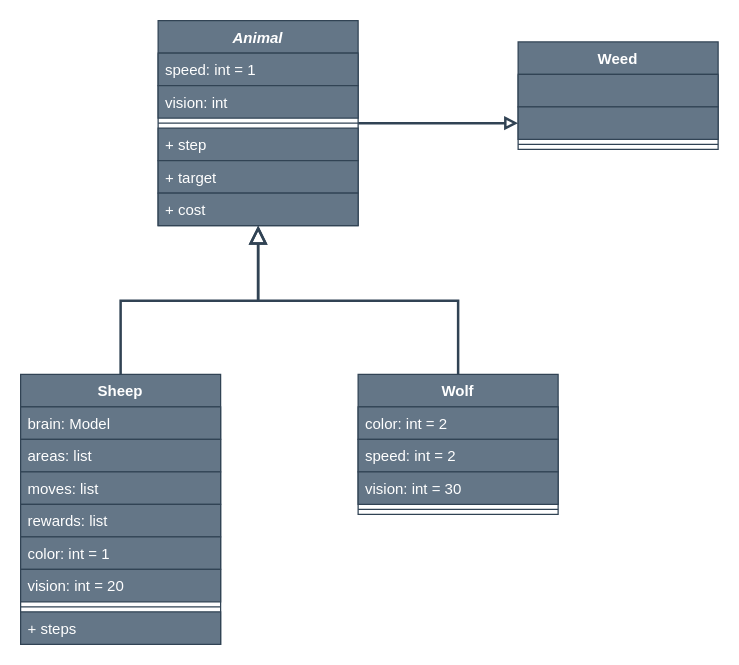
Image size: 739x665. Some labels were removed from this diagram. Here are the shapes that lost their labels. From the top down, the centre of each, then its label:
At pixel 617 90: "name: str".
At pixel 617 122: "color: int = 3".
